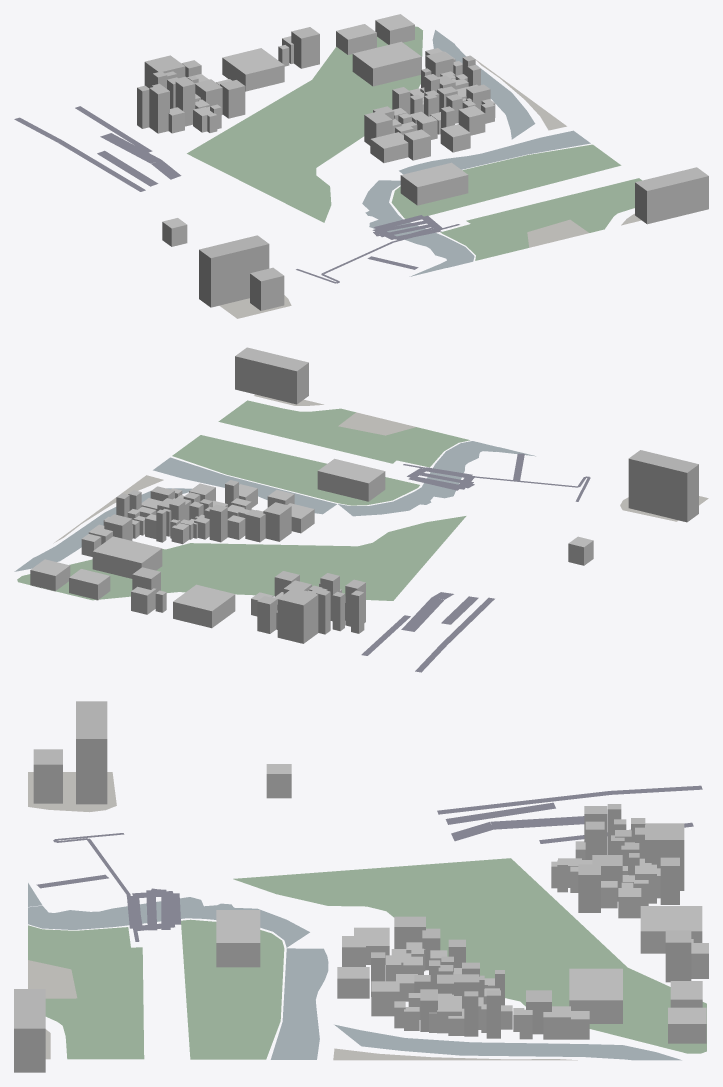
File: 104_101_mid.glb
3 views of the same model, one above another, from view 1: azimuth 30°, elevation 25°; view 2: azimuth 150°, elevation 25°; view 3: azimuth 270°, elevation 25° (orthographic). The views are drawn at different scales.
Bounding box in the file's own units: 532 × 54.41 × 512.
